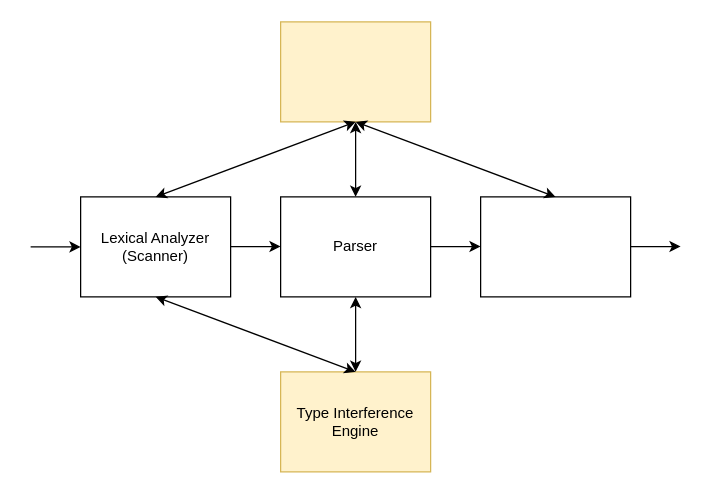
The diagram is 713 pixels wide and 494 high, and some of its shapes have lost their labels. Here are the shapes that lost their labels. From the top down, the centre of each, then its label:
pixel 355 71: Symbol Table
pixel 555 246: Compiler
